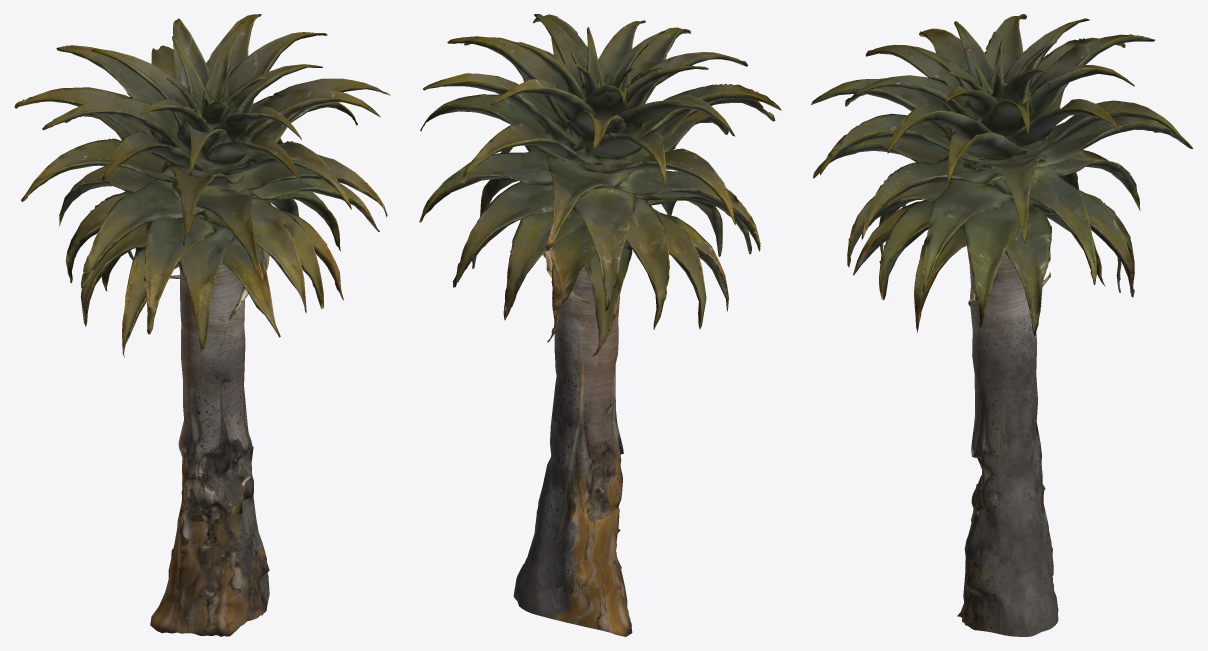
The model's file is quiver.glb.
3 renders of one model, left to right at view 1: azimuth 30°, elevation 25°; view 2: azimuth 150°, elevation 25°; view 3: azimuth 270°, elevation 25°, orthographic.
Parts seen in each view (by area): view 1: quiver_0; view 2: quiver_0; view 3: quiver_0.
Part boxes in pixels (box(x1,y1,x2,y2)): quiver_0: box(14, 14, 390, 636); quiver_0: box(419, 14, 781, 636); quiver_0: box(811, 14, 1193, 636).
Bounding box in the file's own units: 0.8716 × 1.47 × 0.8805.
Materials: 1 (1 with a texture image).
